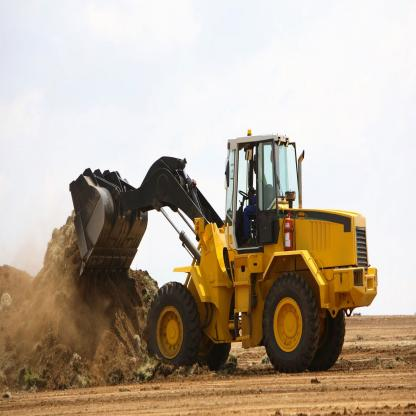bull_dozer/loader/grader: (66, 125, 383, 384)
